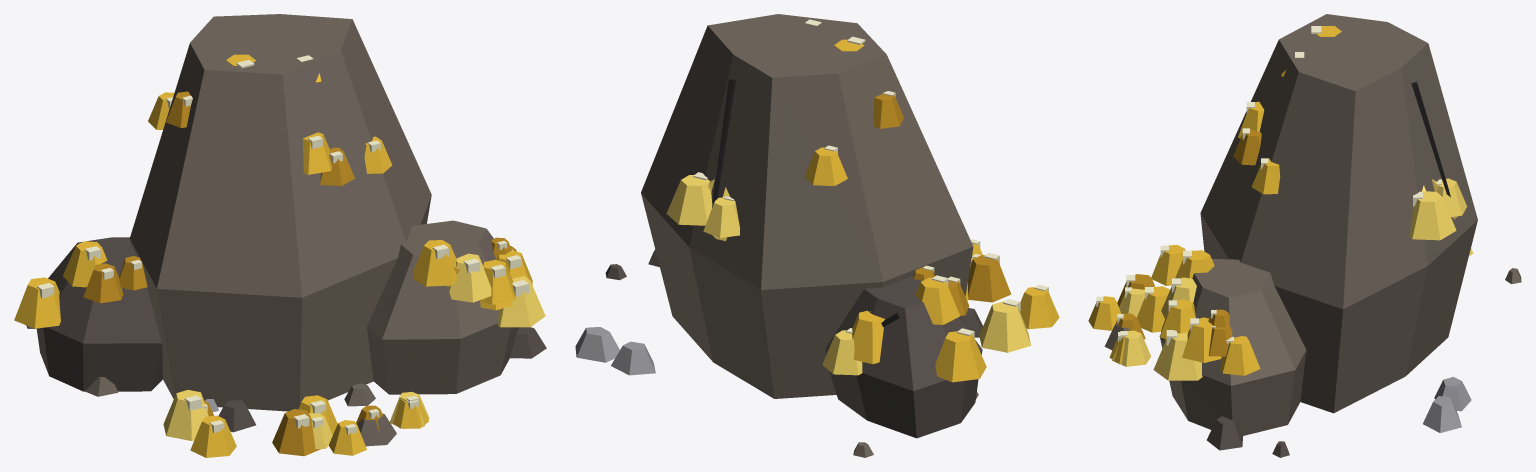
Rendered from gold_3.obj.
3 views of the same model, side by side, from view 1: azimuth 30°, elevation 25°; view 2: azimuth 150°, elevation 25°; view 3: azimuth 270°, elevation 25° (orthographic). The views are drawn at different scales.
Parts seen in each view (by area): view 1: Boulder, Nugget, Pebble, Nugget.Shine; view 2: Boulder, Nugget, Pebble, Nugget.Shine, Crack; view 3: Boulder, Nugget, Pebble, Nugget.Shine, Crack.
Boxes of the visible parts, x1,y1,x2,y2 form: Boulder: (36,14,519,411); Nugget: (14,54,545,457); Pebble: (26,325,546,446); Nugget.Shine: (37,55,528,434); Boulder: (641,14,982,438); Nugget: (666,39,1059,382); Pebble: (575,249,982,457); Nugget.Shine: (693,19,1048,337); Crack: (712,79,899,327); Boulder: (1159,14,1477,435); Nugget: (1088,26,1473,380); Pebble: (1104,268,1521,457); Nugget.Shine: (1096,26,1441,345); Crack: (1411,81,1450,197).
Bounding box in the file's own units: 2.87 × 1.91 × 2.49.
